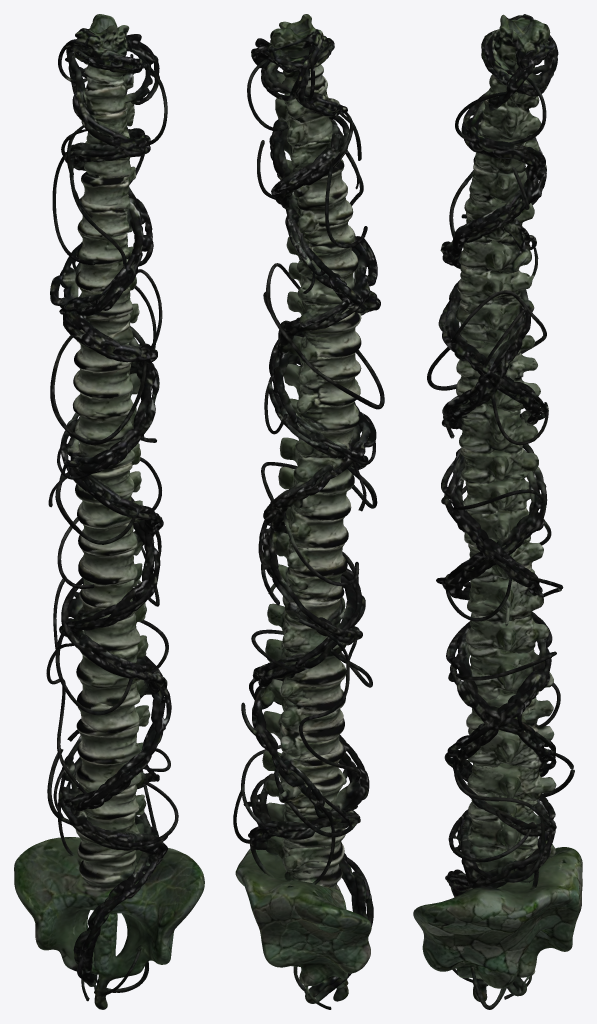
Rendered from spine.opt.glb.
The picture shows the model from 3 angles, left to right: view 1: azimuth 30°, elevation 25°; view 2: azimuth 150°, elevation 25°; view 3: azimuth 270°, elevation 25°; orthographic projection. The views are drawn at different scales.
Parts seen in each view (by area): view 1: tripo_node_a284b60c-024c-4648-8f81-7a53d1a2fc52; view 2: tripo_node_a284b60c-024c-4648-8f81-7a53d1a2fc52; view 3: tripo_node_a284b60c-024c-4648-8f81-7a53d1a2fc52.
Boxes of the visible parts, <box> form: tripo_node_a284b60c-024c-4648-8f81-7a53d1a2fc52: <box>14,14,204,1009</box>; tripo_node_a284b60c-024c-4648-8f81-7a53d1a2fc52: <box>233,14,384,1009</box>; tripo_node_a284b60c-024c-4648-8f81-7a53d1a2fc52: <box>413,14,582,1009</box>.
Size of the model in its own units: 0.1518 by 0.9807 by 0.1512.
Materials: 1 (1 with a texture image).
